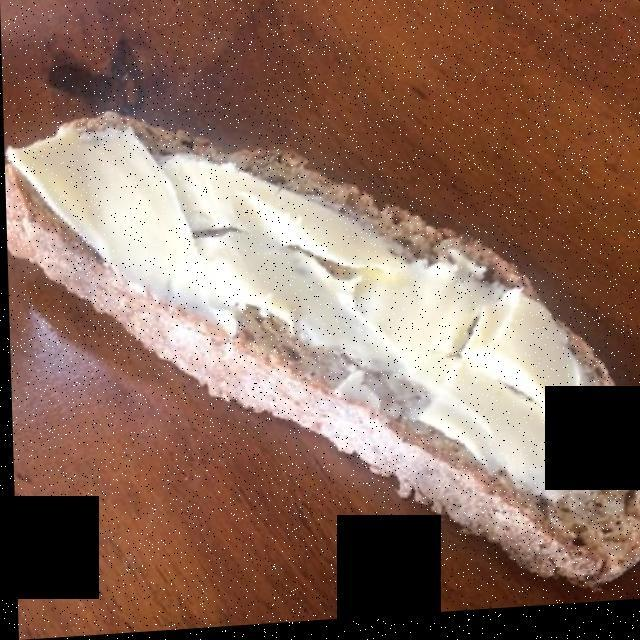bread: (20, 125, 640, 586)
butter: (8, 117, 599, 528), (4, 129, 582, 507)
